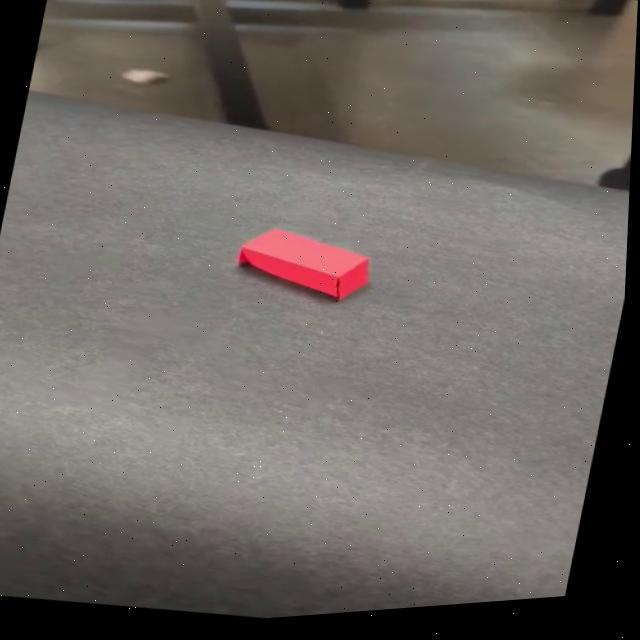red block: (230, 213, 381, 312)
